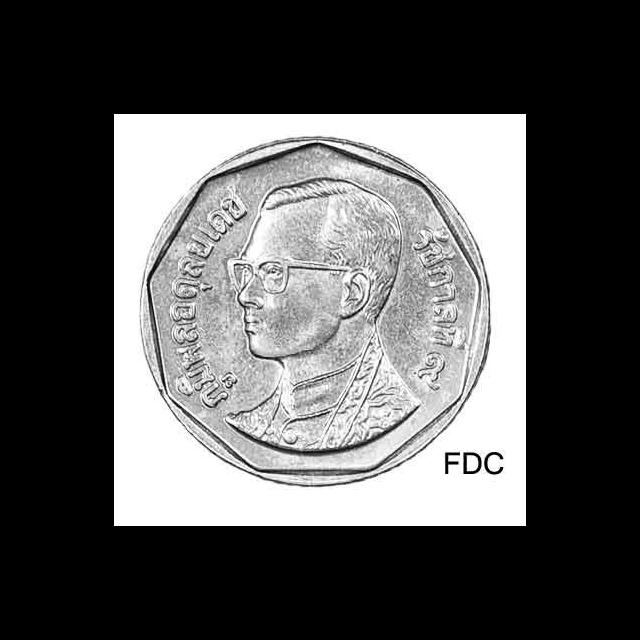5-baht: (118, 123, 504, 501)
